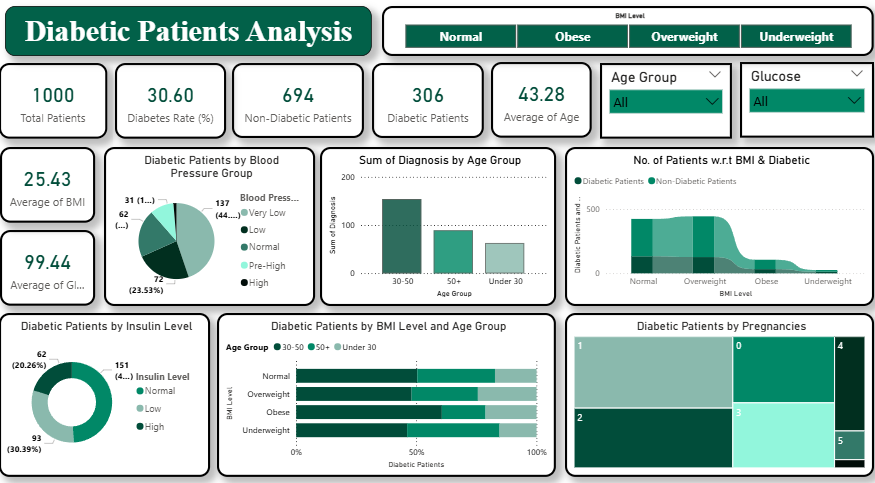

This screenshot's page, from the dashboard's own definition file:
{"tool":"powerbi","page":{"name":"Page 1","canvas":[1280,720],"ordinal":0},"visuals":[{"type":"card","fields":{"Values":["Diabetes_prediction.Total Patients"]},"box":[7.2,93.6,155.5,109.4],"z":0},{"type":"card","fields":{"Values":["Diabetes_prediction.Diabetic Patients"]},"box":[544.3,93.6,161.3,108],"z":1000},{"type":"card","fields":{"Values":["Diabetes_prediction.Non-Diabetic Patients"]},"box":[342.7,93.6,190.1,108],"z":2000},{"type":"card","fields":{"Values":["Diabetes_prediction.Diabetes Rate (%)"]},"box":[174.2,93.6,159.8,109.4],"z":3000},{"type":"card","fields":{"Values":["Avg(Diabetes_prediction.Age)"]},"box":[715.7,92.2,145.4,109.4],"z":4000},{"type":"card","fields":{"Values":["Avg(Diabetes_prediction.Glucose)"]},"box":[8.6,334.1,136.8,109.4],"z":5000},{"type":"card","fields":{"Values":["Avg(Diabetes_prediction.BMI)"]},"box":[8.6,214.6,136.8,109.4],"z":6000},{"type":"slicer","fields":{"Values":["Diabetes_prediction.Age Group"]},"box":[872.6,93.6,190.1,109.4],"z":7000},{"type":"slicer","fields":{"Values":["Diabetes_prediction.Glucose"]},"box":[1074.2,92.2,193,109.4],"z":8000},{"type":"slicer","title":"BMI Level","fields":{"Values":["Diabetes_prediction.BMI Level"]},"box":[558.7,11.5,708.5,72],"z":9000},{"type":"pieChart","fields":{"Y":["Diabetes_prediction.Diabetic Patients"],"Category":["Diabetes_prediction.Blood Pressure Group"]},"box":[158.4,214.6,303.8,229],"z":10000},{"type":"columnChart","fields":{"Category":["Diabetes_prediction.Age Group"],"Y":["Sum(Diabetes_prediction.Diagnosis)"]},"box":[469.4,214.6,339.8,229],"z":11000},{"type":"ribbonChart","title":"No. of Patients w.r.t BMI & Diabetic","fields":{"Category":["Diabetes_prediction.BMI Level"],"Y":["Diabetes_prediction.Diabetic Patients","Diabetes_prediction.Non-Diabetic Patients"]},"box":[822.2,214.6,445,229],"z":12000},{"type":"donutChart","fields":{"Y":["Diabetes_prediction.Diabetic Patients"],"Category":["Diabetes_prediction.Insulin Level"]},"box":[7.2,453.6,303.8,236.2],"z":13000},{"type":"hundredPercentStackedBarChart","fields":{"Y":["Diabetes_prediction.Diabetic Patients"],"Category":["Diabetes_prediction.BMI Level"],"Series":["Diabetes_prediction.Age Group"]},"box":[321.1,453.6,488.2,236.2],"z":14000},{"type":"treemap","fields":{"Values":["Diabetes_prediction.Diabetic Patients"],"Group":["Diabetes_prediction.Pregnancies"]},"box":[822,454,445,236],"z":15000},{"type":"textbox","box":[15.8,11.5,528.5,72],"z":16000}]}

Visuals, with their boxes in screenshot pixels (x1, y1, x2, y2), scaled from the page's 1280x720 canvas onto the 875x483 screenshot:
card - Diabetes_prediction.Total Patients: locate(5, 63, 111, 136)
card - Diabetes_prediction.Diabetic Patients: locate(372, 63, 482, 135)
card - Diabetes_prediction.Non-Diabetic Patients: locate(234, 63, 364, 135)
card - Diabetes_prediction.Diabetes Rate (%): locate(119, 63, 228, 136)
card - Avg(Diabetes_prediction.Age): locate(489, 62, 589, 135)
card - Avg(Diabetes_prediction.Glucose): locate(6, 224, 99, 298)
card - Avg(Diabetes_prediction.BMI): locate(6, 144, 99, 217)
slicer - Diabetes_prediction.Age Group: locate(597, 63, 726, 136)
slicer - Diabetes_prediction.Glucose: locate(734, 62, 866, 135)
"BMI Level" slicer: locate(382, 8, 866, 56)
pieChart - Diabetes_prediction.Diabetic Patients x Diabetes_prediction.Blood Pressure Group: locate(108, 144, 316, 298)
columnChart - Diabetes_prediction.Age Group x Sum(Diabetes_prediction.Diagnosis): locate(321, 144, 553, 298)
"No. of Patients w.r.t BMI & Diabetic" ribbonChart: locate(562, 144, 866, 298)
donutChart - Diabetes_prediction.Diabetic Patients x Diabetes_prediction.Insulin Level: locate(5, 304, 213, 463)
hundredPercentStackedBarChart - Diabetes_prediction.Diabetic Patients x Diabetes_prediction.BMI Level: locate(220, 304, 553, 463)
treemap - Diabetes_prediction.Diabetic Patients x Diabetes_prediction.Pregnancies: locate(562, 305, 866, 463)
textbox: locate(11, 8, 372, 56)
